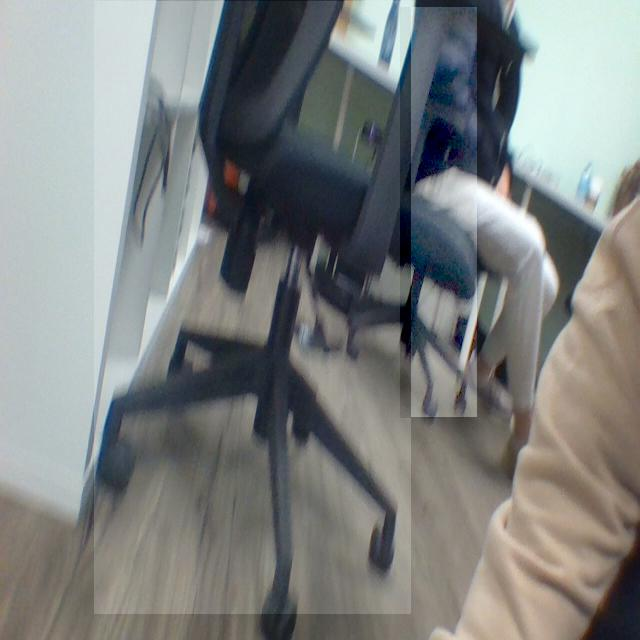black-chair: (94, 1, 412, 615), (400, 7, 478, 418)
